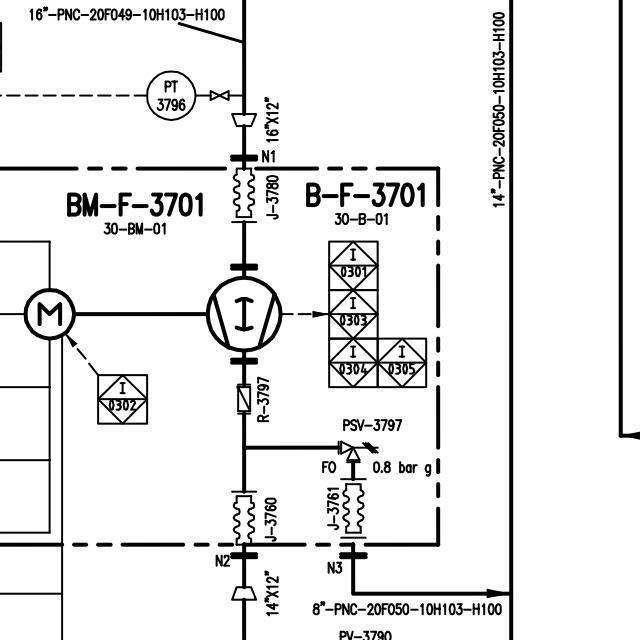B: (204, 275, 282, 350)
CV2: (234, 381, 254, 417)
EJ: (337, 475, 376, 542), (226, 486, 263, 556), (227, 156, 261, 226)
GV: (207, 88, 232, 103)
M: (21, 284, 77, 341)
RPV: (334, 437, 382, 463)
SP: (229, 582, 260, 606), (228, 111, 258, 128)
